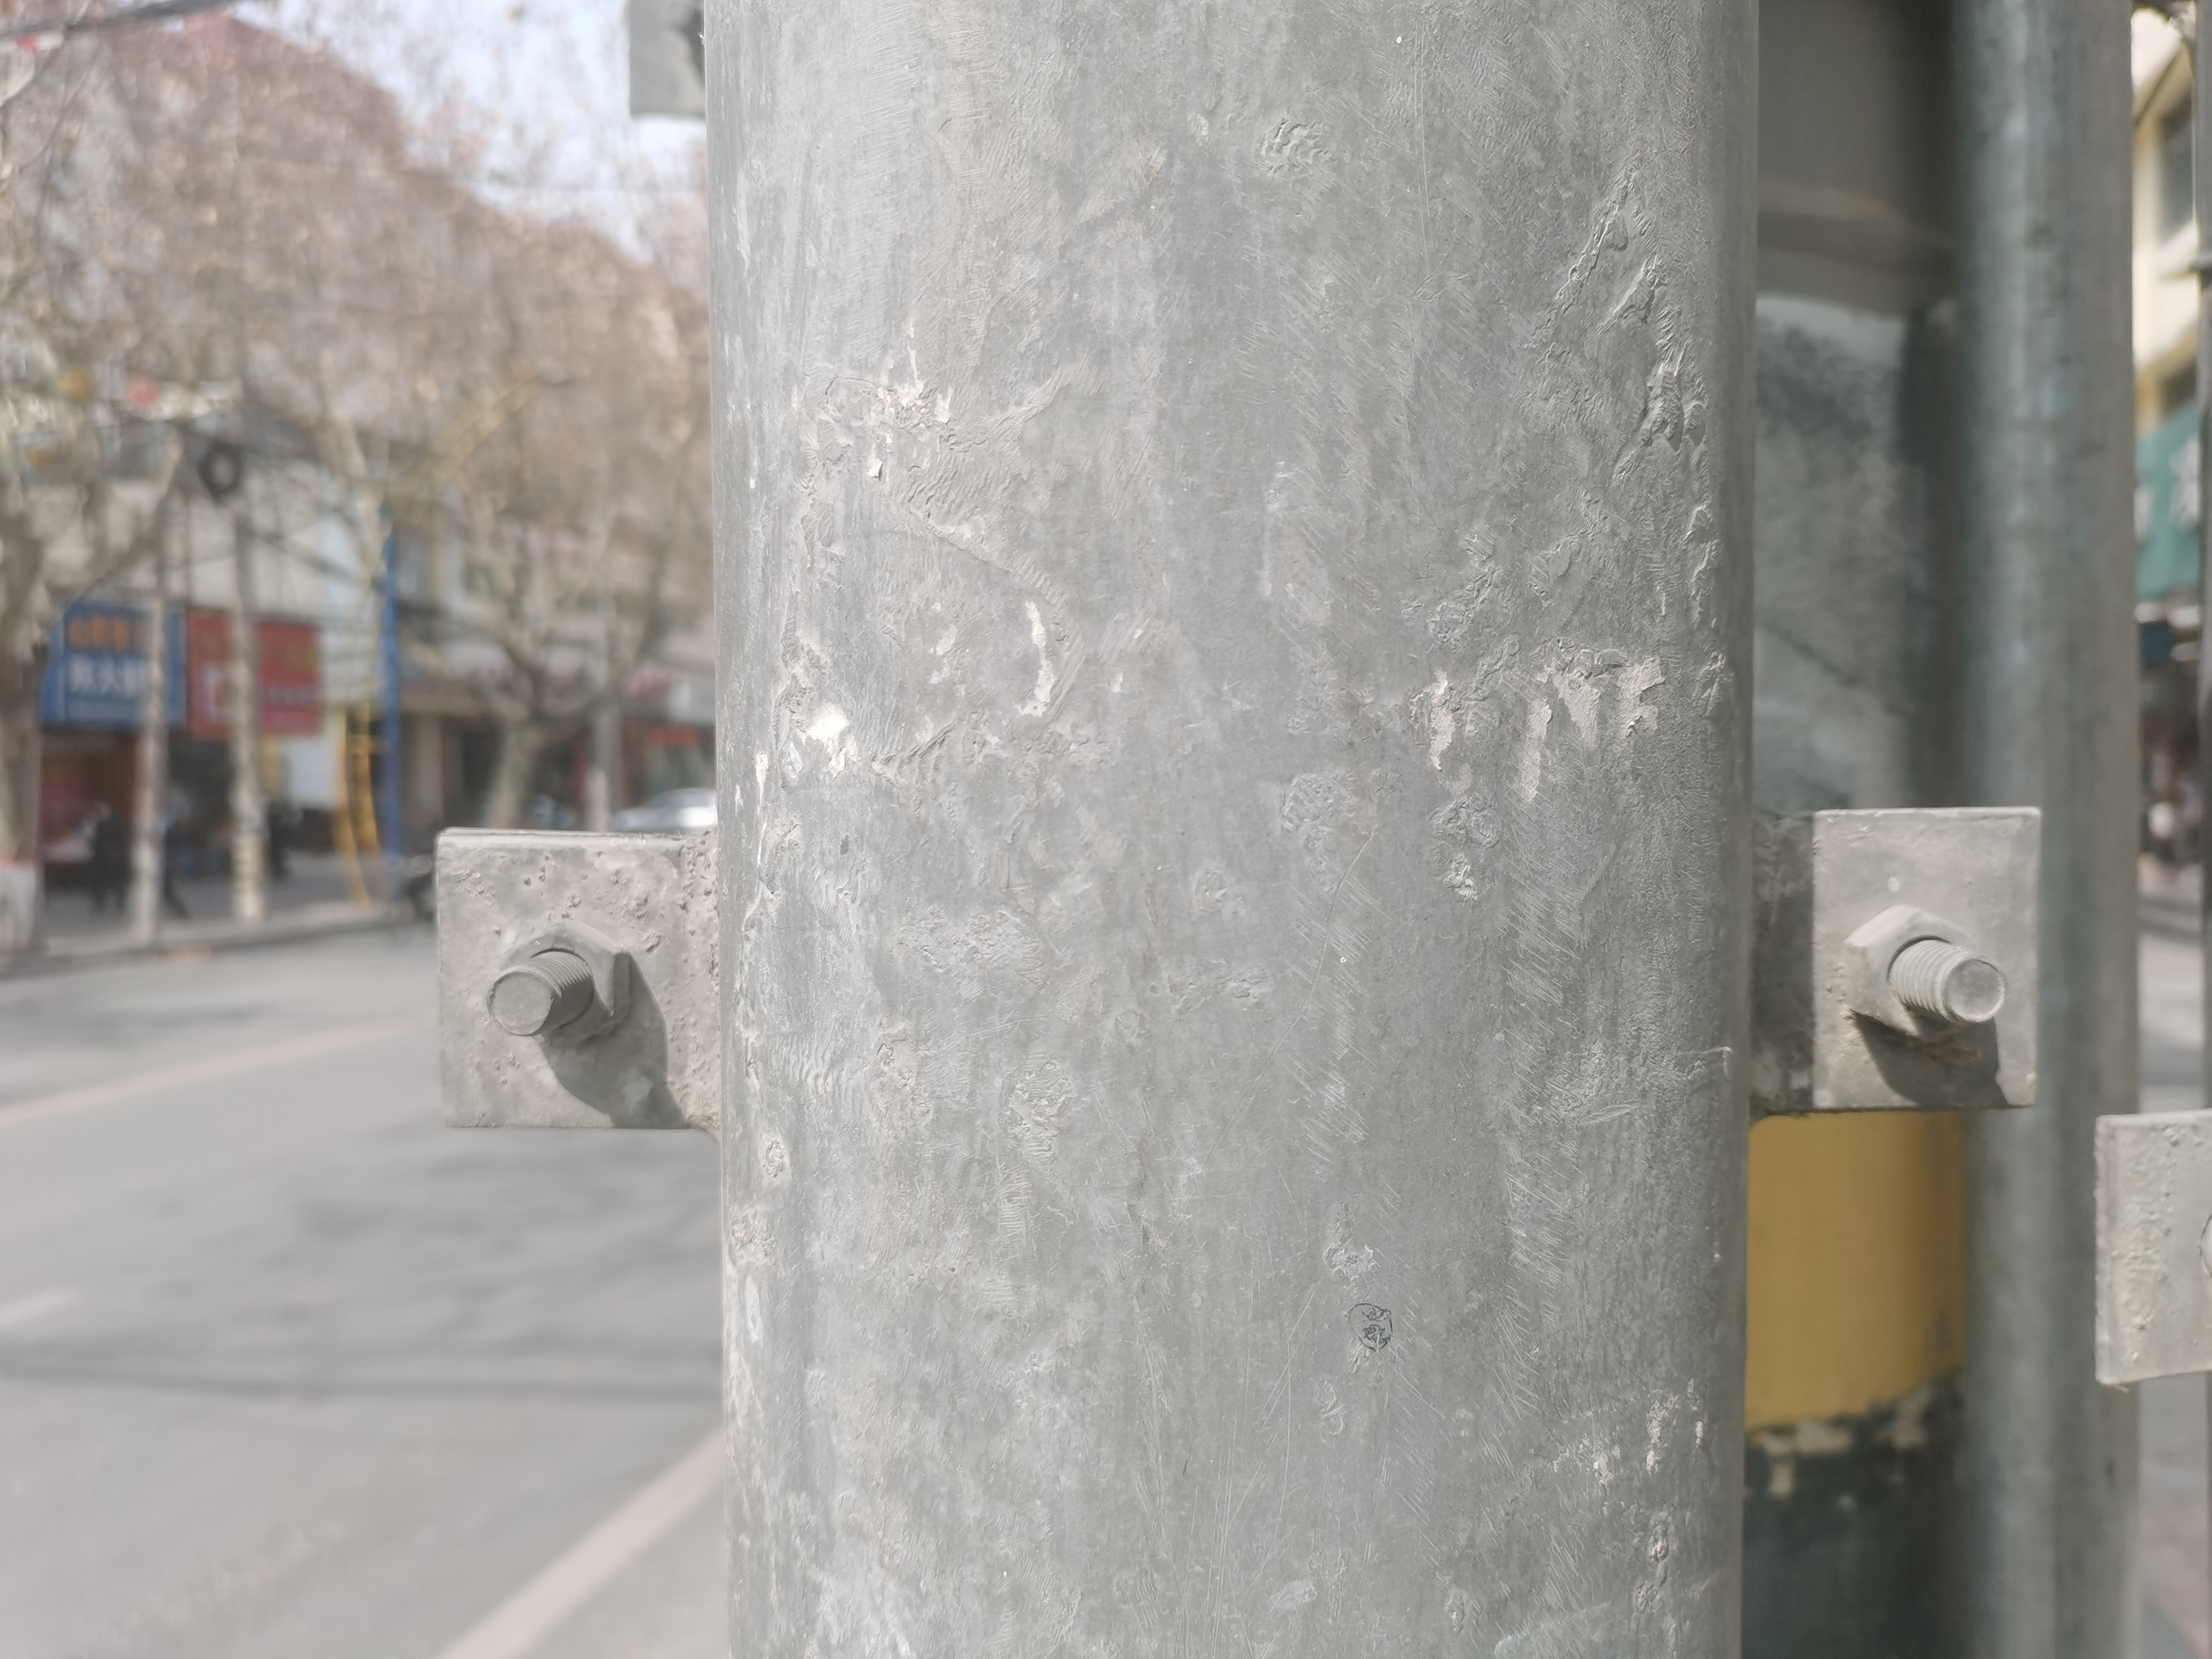bolt_b: (1838, 899, 1987, 1051), (493, 911, 636, 1053)
